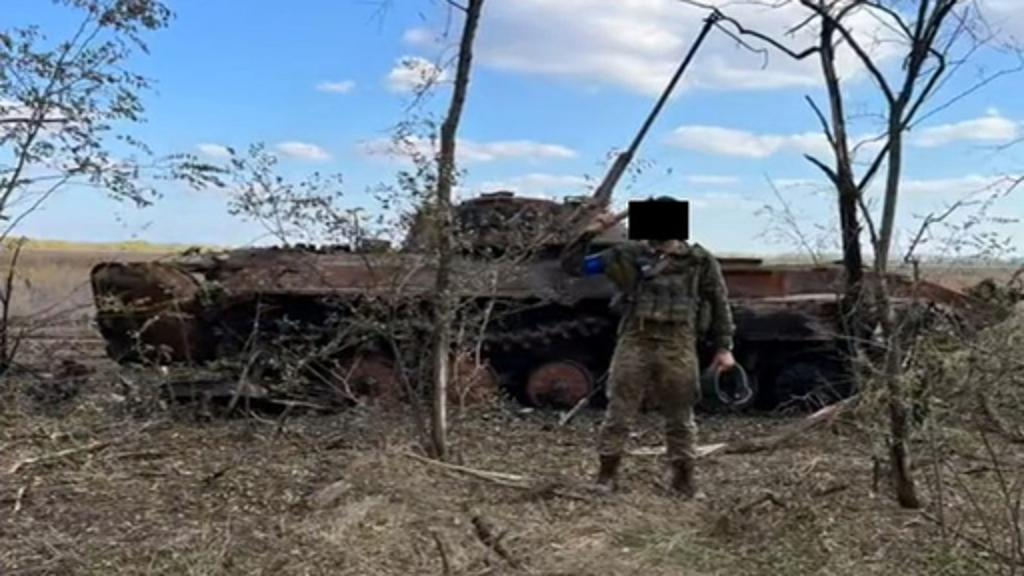APC-IFV: (90, 12, 1000, 422)
